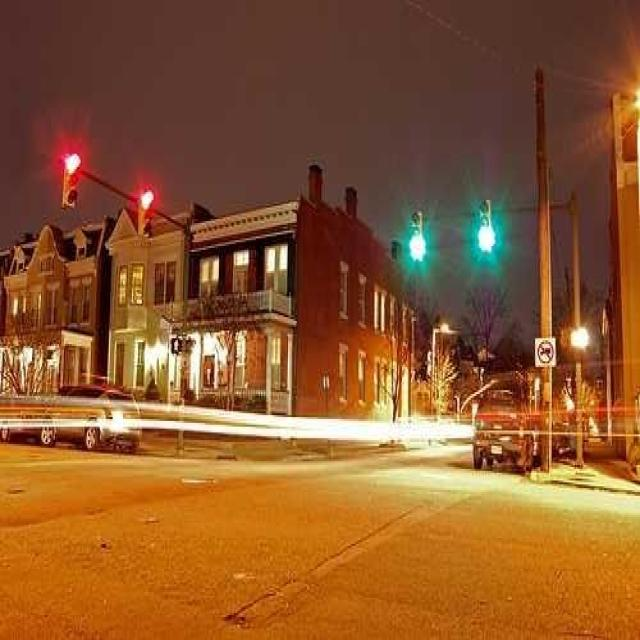Traffic Light -Green-: (476, 200, 496, 253), (407, 208, 426, 259)
Traffic Light -Red-: (56, 144, 84, 210), (138, 181, 159, 247)
